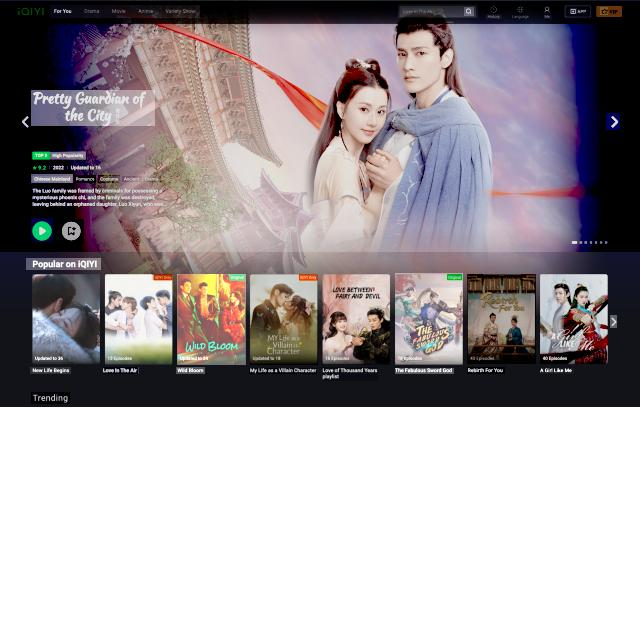CheckBox: (30, 218, 54, 244), (60, 219, 84, 244), (564, 5, 593, 18), (595, 5, 623, 18)
CheckedTextView: (398, 4, 478, 18)
RadioButton: (32, 151, 86, 160), (152, 274, 172, 280), (228, 274, 245, 281), (298, 275, 317, 281), (447, 274, 462, 280)
Switch: (0, 24, 640, 252)
bag: (0, 1, 640, 23)
breadcrumbs: (26, 258, 101, 270), (31, 392, 70, 404)
card: (0, 23, 640, 252)
carousel: (31, 218, 53, 242), (61, 220, 82, 242), (606, 113, 620, 130), (21, 112, 30, 130), (610, 315, 617, 328), (464, 7, 474, 16), (489, 5, 498, 14), (516, 5, 525, 13), (543, 5, 551, 14), (600, 7, 608, 15), (570, 8, 577, 14), (31, 165, 38, 171)
copy: (177, 274, 246, 365), (395, 273, 463, 365), (467, 274, 536, 364), (250, 274, 318, 365), (322, 274, 390, 365), (540, 274, 608, 364), (105, 274, 172, 365), (32, 274, 100, 362)
data feed: (322, 367, 378, 381), (249, 368, 317, 374), (395, 368, 454, 374), (30, 367, 71, 374), (467, 367, 505, 374), (104, 367, 140, 374), (540, 368, 574, 374), (176, 367, 205, 374), (511, 14, 531, 18), (486, 14, 502, 19), (610, 9, 620, 15), (577, 10, 587, 14), (544, 15, 552, 19)
date picker: (16, 4, 46, 19)
decoration: (50, 5, 200, 18)
footer: (402, 8, 435, 15)
illustration: (31, 174, 73, 183), (98, 175, 120, 183), (75, 175, 96, 183), (122, 176, 142, 182), (143, 176, 161, 182)
image: (31, 90, 155, 126)
